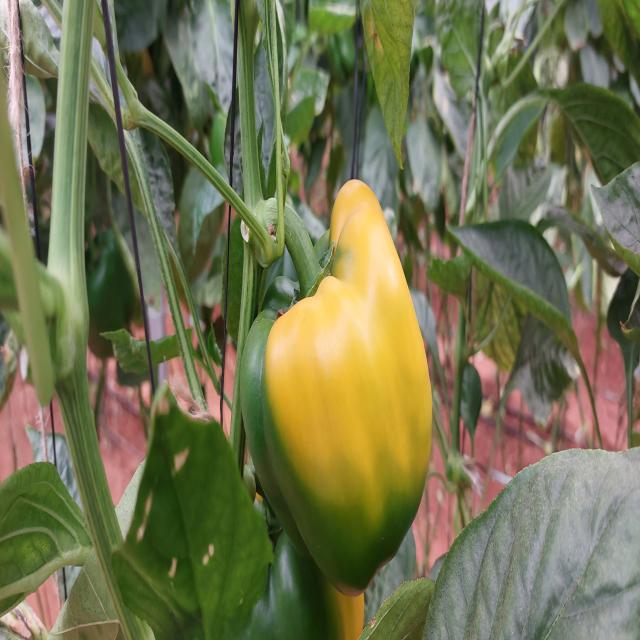GreenishYellow--Can-be-Harvested: (225, 181, 441, 594)
